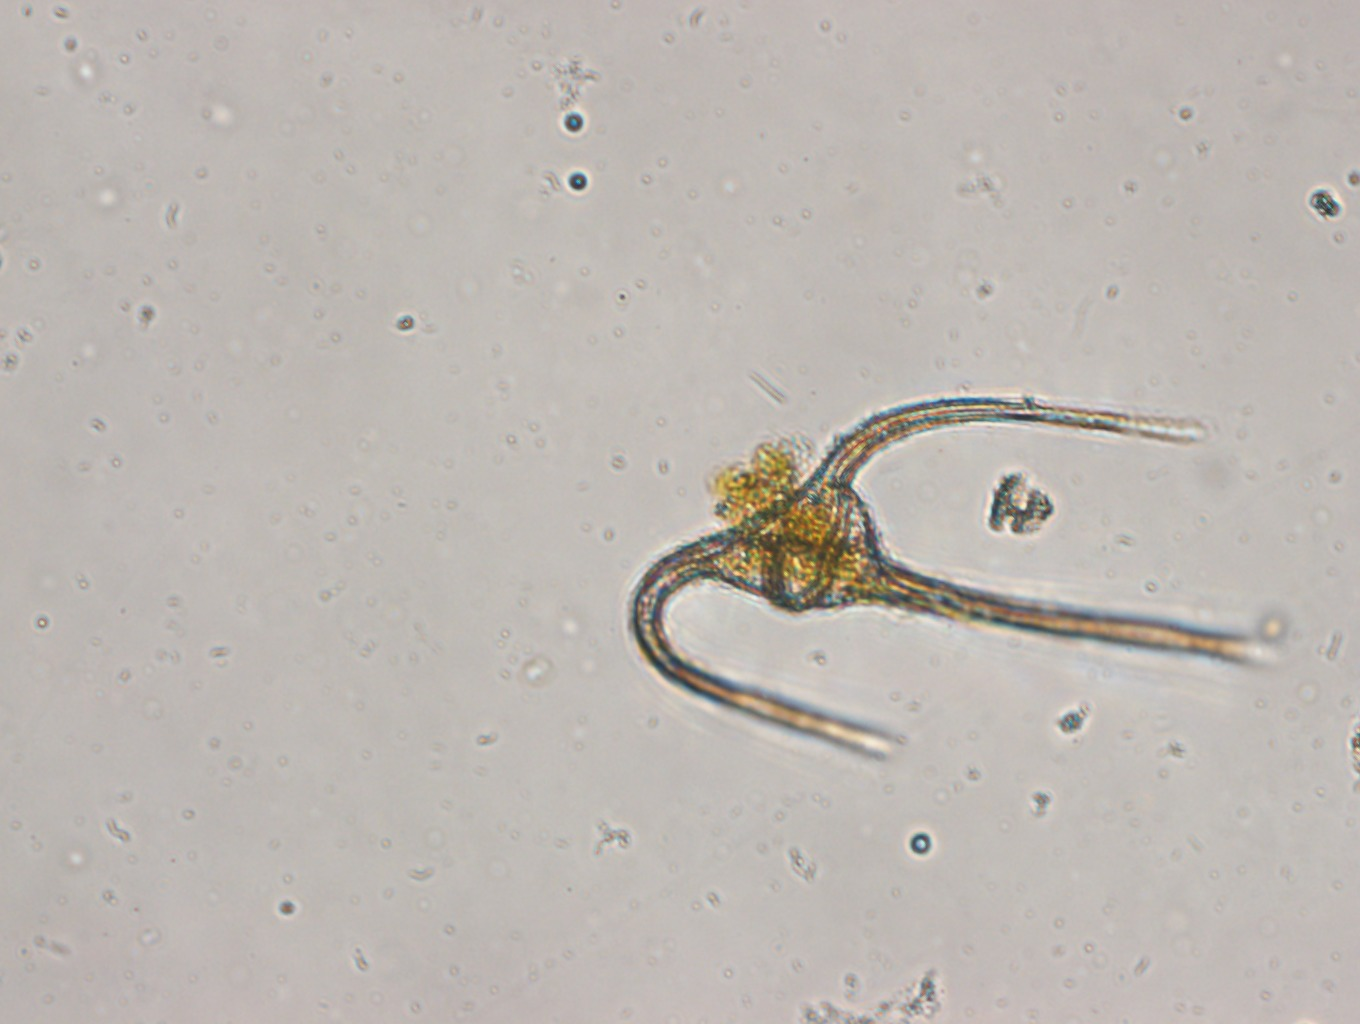ceratium trichoceros: (614, 379, 1285, 765)
